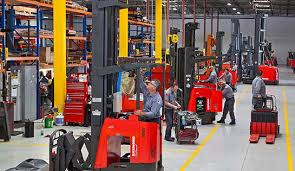Pallet Jack: (7, 1, 163, 170), (242, 15, 281, 84), (249, 93, 280, 148)
